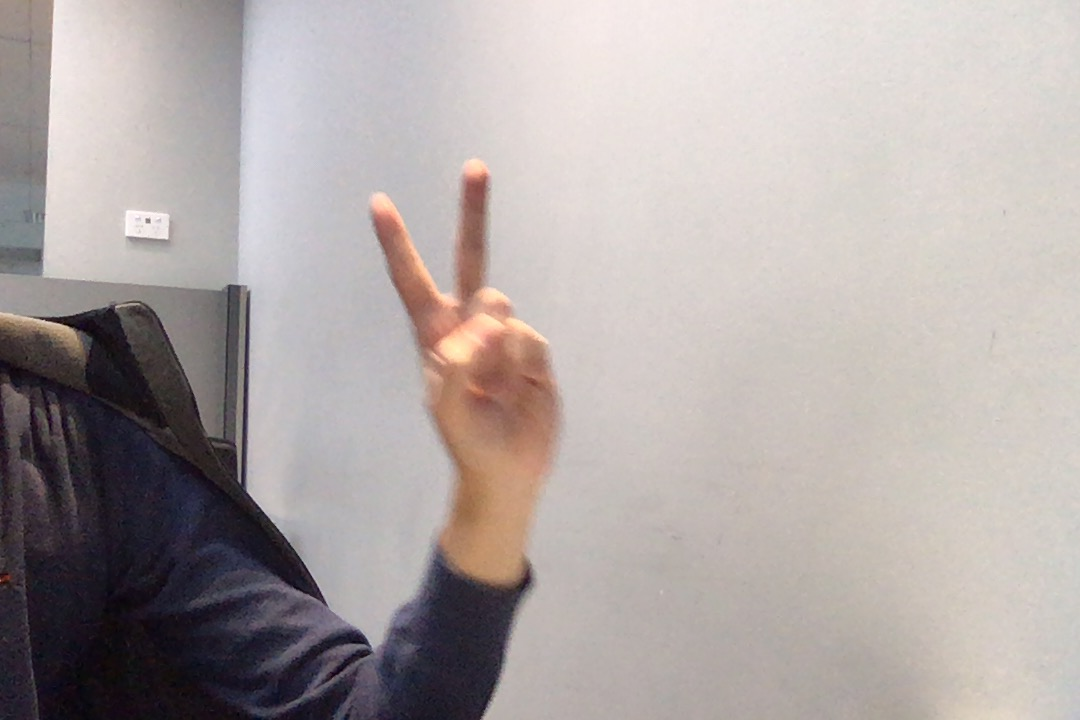peacesign: (356, 156, 587, 503)
